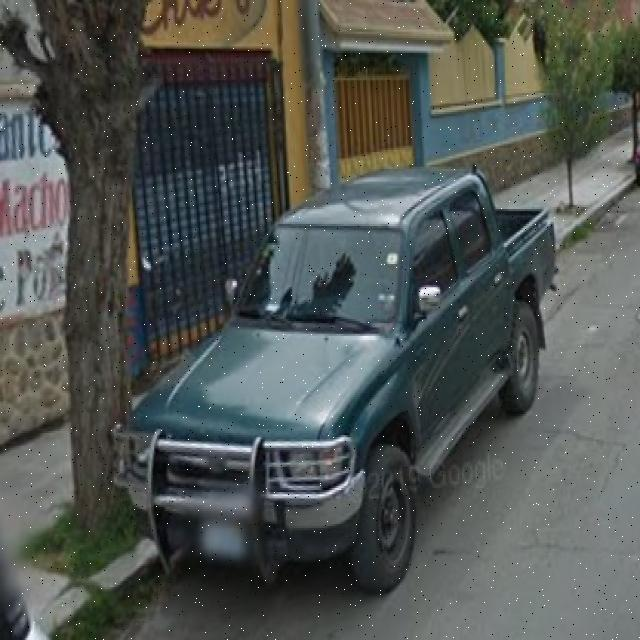cars: (126, 200, 560, 598)
